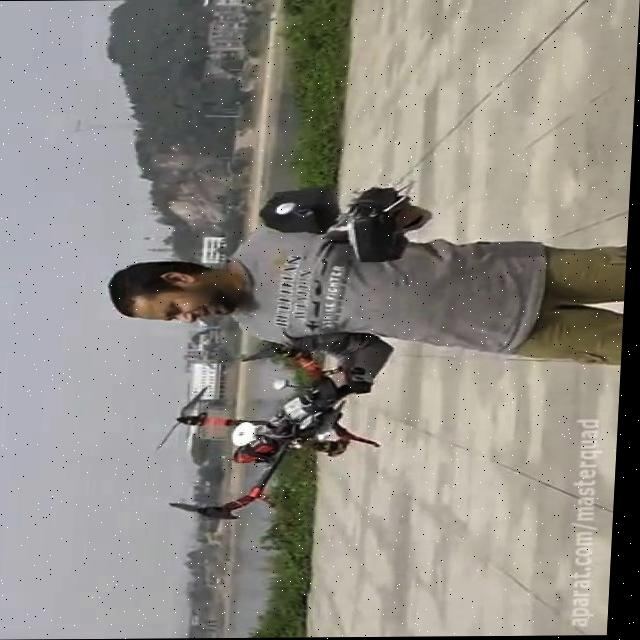drone: (155, 337, 390, 524)
